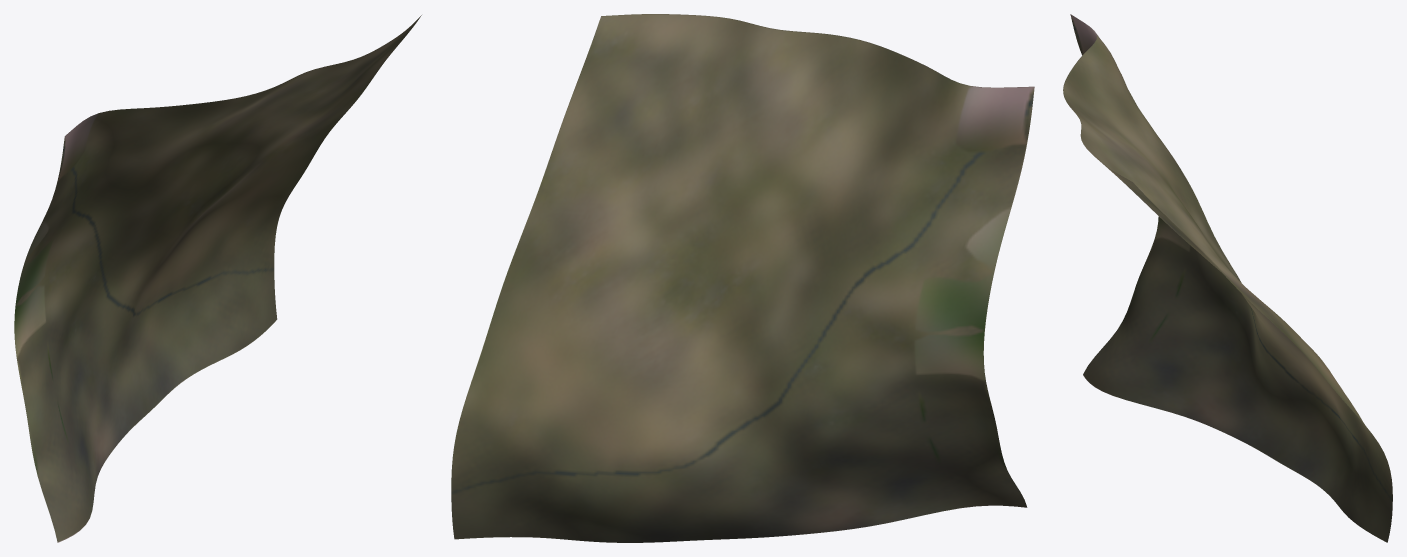
File: ground_mid_00_03.obj
The picture shows the model from 3 angles, left to right: view 1: azimuth 30°, elevation 25°; view 2: azimuth 150°, elevation 25°; view 3: azimuth 270°, elevation 25°; orthographic projection. The views are drawn at different scales.
Parts seen in each view (by area): view 1: ground_mid_00_03; view 2: ground_mid_00_03; view 3: ground_mid_00_03.
Boxes of the visible parts, <box> form: ground_mid_00_03: <box>14,15,421,542</box>; ground_mid_00_03: <box>451,14,1034,542</box>; ground_mid_00_03: <box>1063,14,1392,542</box>.
Size of the model in its own units: 200 by 200 by 166.
Materials: 1 (1 with a texture image).
